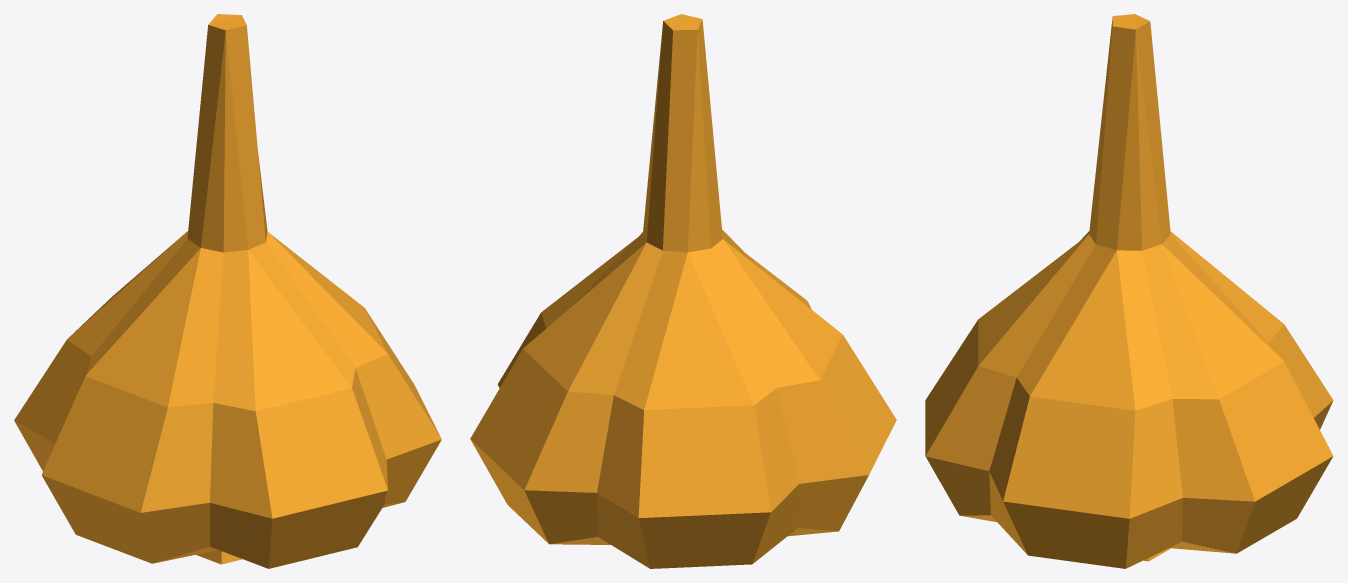
File: SM_Garlic.fbx
The picture shows the model from 3 angles, left to right: view 1: azimuth 30°, elevation 25°; view 2: azimuth 150°, elevation 25°; view 3: azimuth 270°, elevation 25°; orthographic projection.
Visible parts, largest first — view 1: garlic; view 2: garlic; view 3: garlic.
Part boxes in pixels (x1,y1,x2,y2): garlic: (14,14,441,568); garlic: (470,14,896,568); garlic: (925,14,1333,568).
Size of the model in its own units: 0.1104 by 0.1462 by 0.105.
